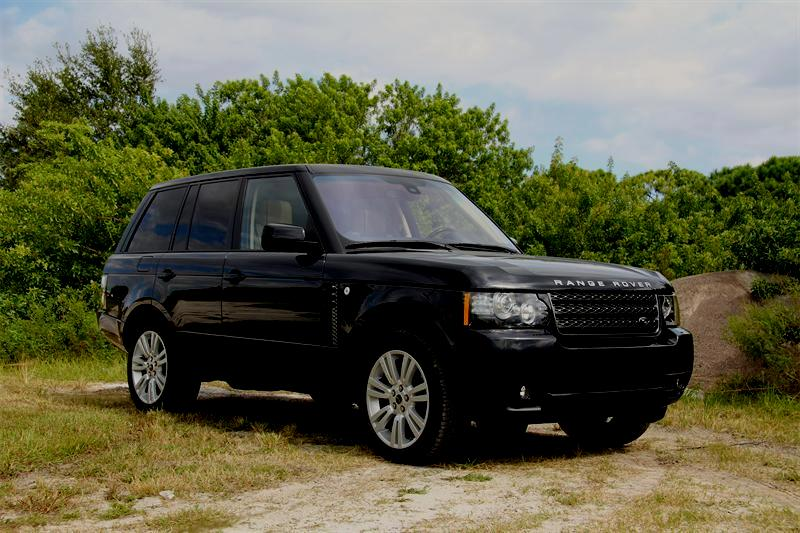range rover: (550, 274, 654, 290)
